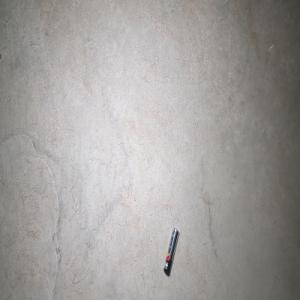Battery: (163, 227, 179, 276)
